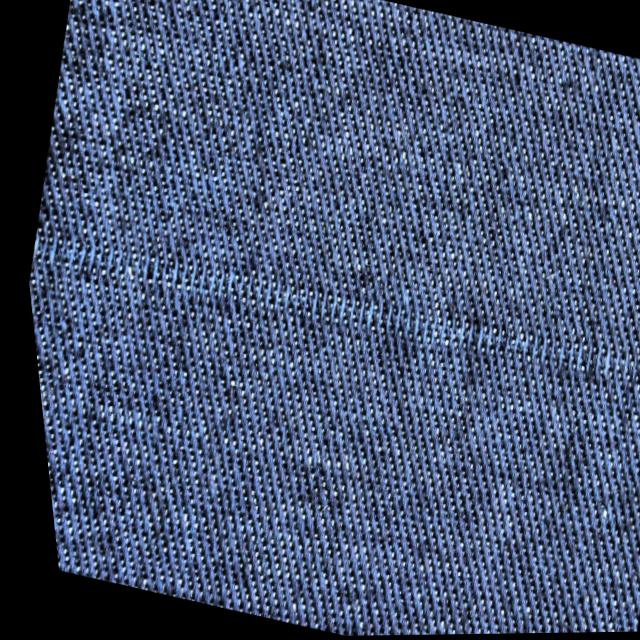Hole: (26, 234, 640, 391)
